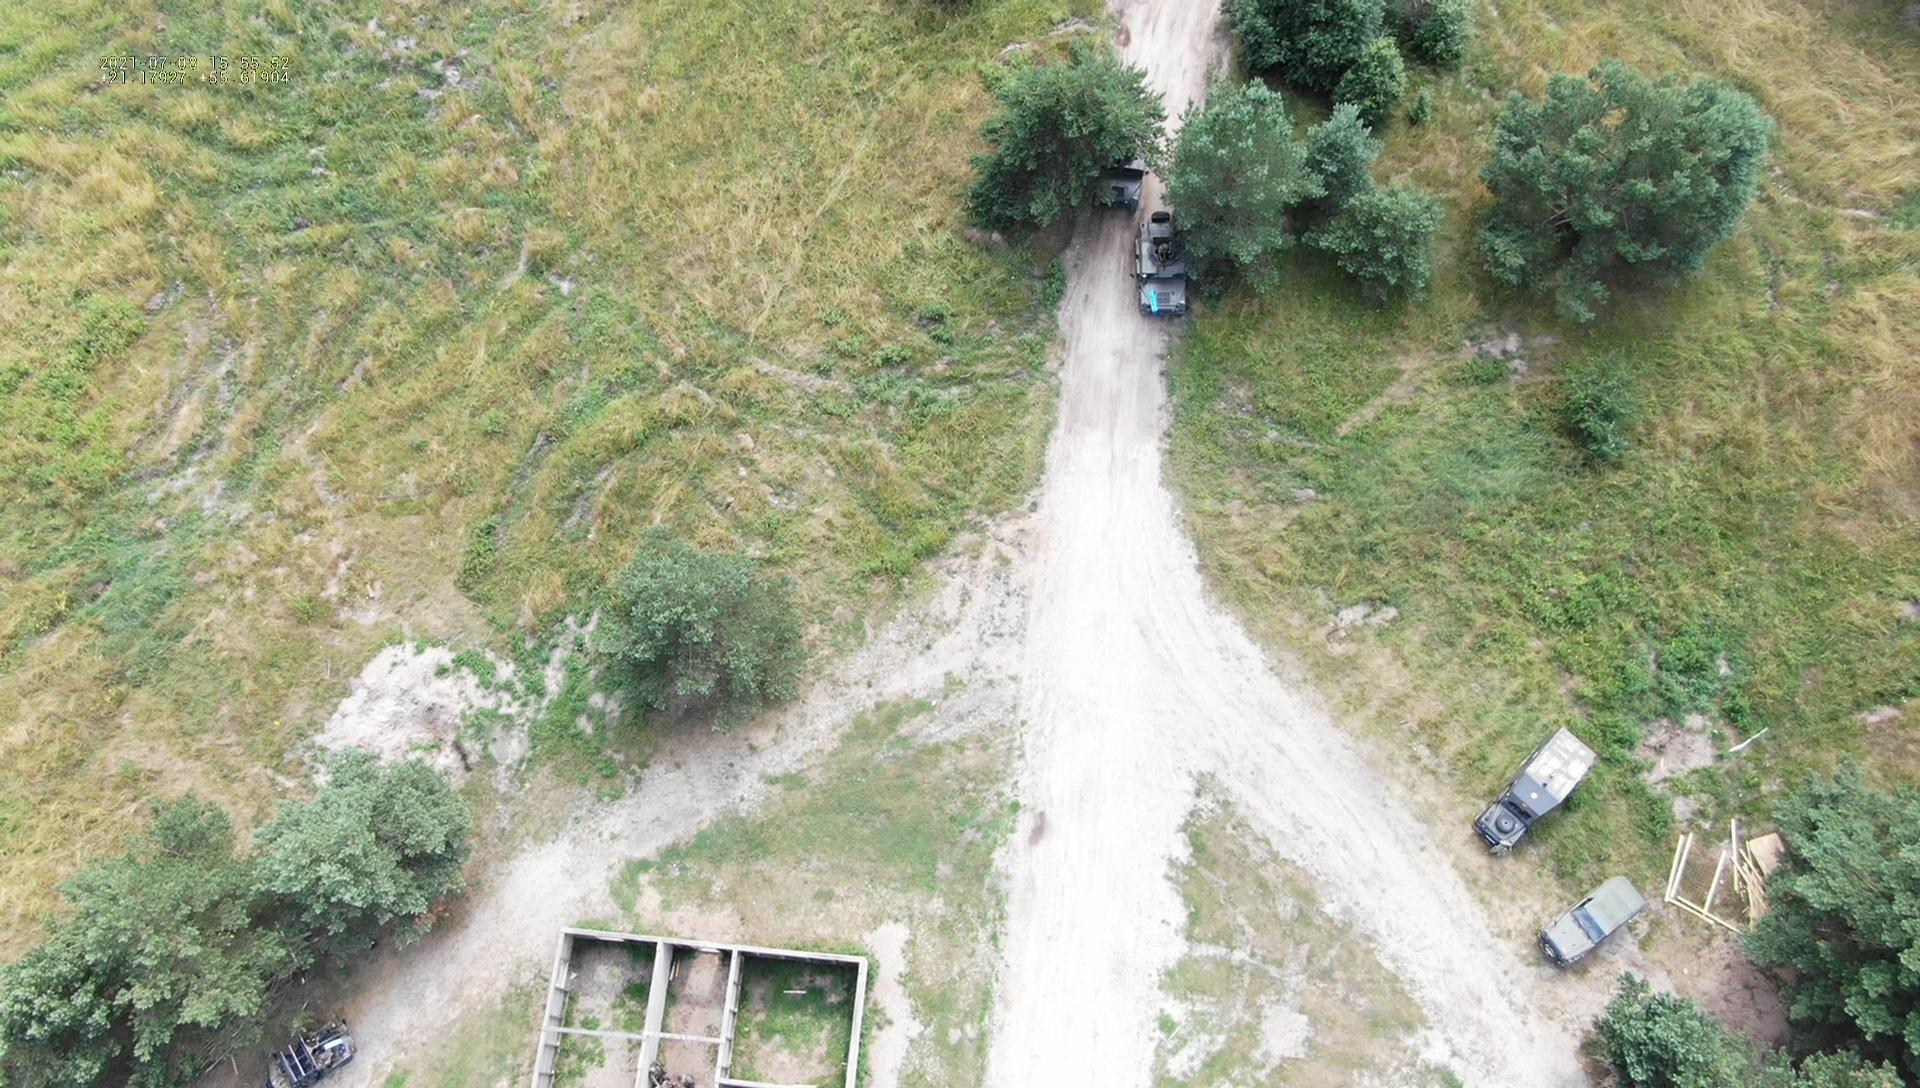Soldier: (1065, 812, 1244, 1018), (876, 37, 1005, 281), (582, 392, 727, 505), (1014, 446, 1127, 568), (218, 419, 340, 528), (66, 489, 219, 575), (1443, 78, 1553, 193), (972, 167, 1072, 278)
